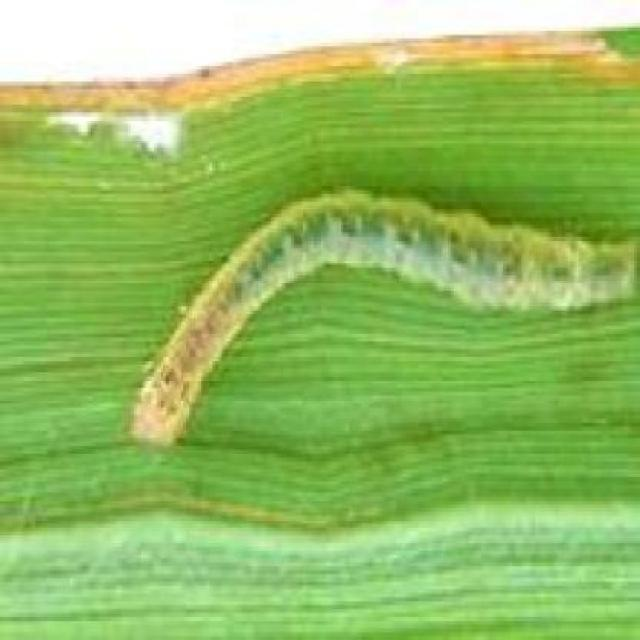leaf-folder: (118, 178, 640, 470)
